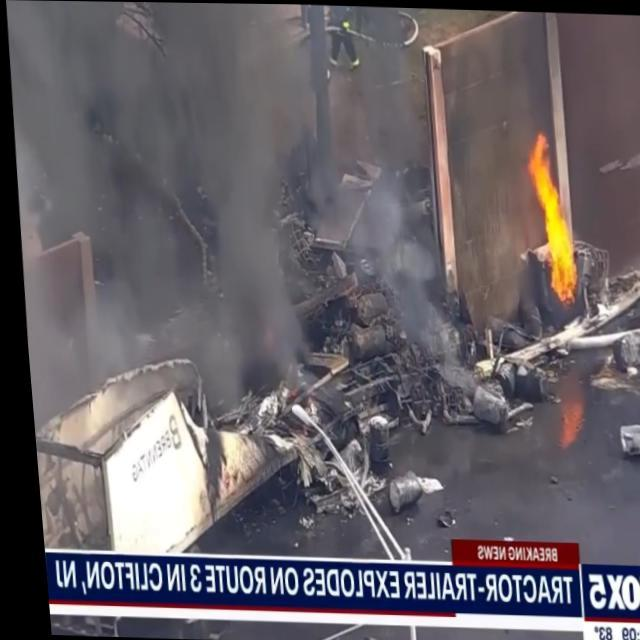fire: (514, 120, 594, 306)
